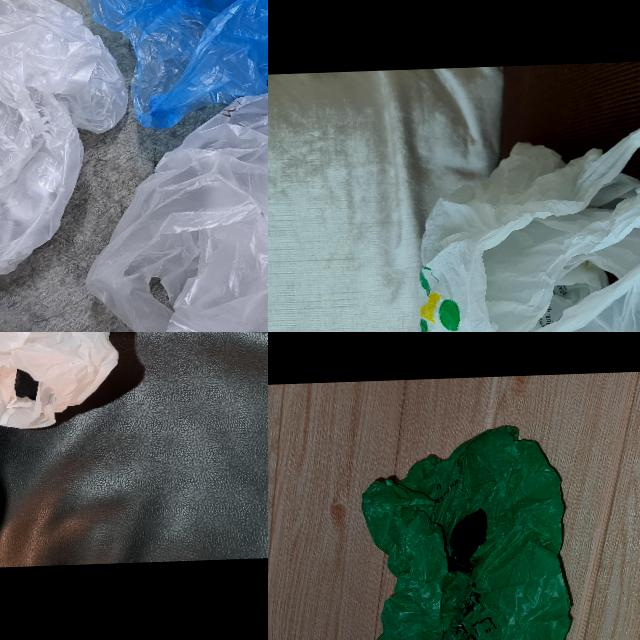sacola plástica: (81, 0, 268, 332), (405, 114, 640, 332), (351, 422, 578, 640), (0, 0, 127, 297), (0, 332, 173, 494), (49, 0, 268, 126)
